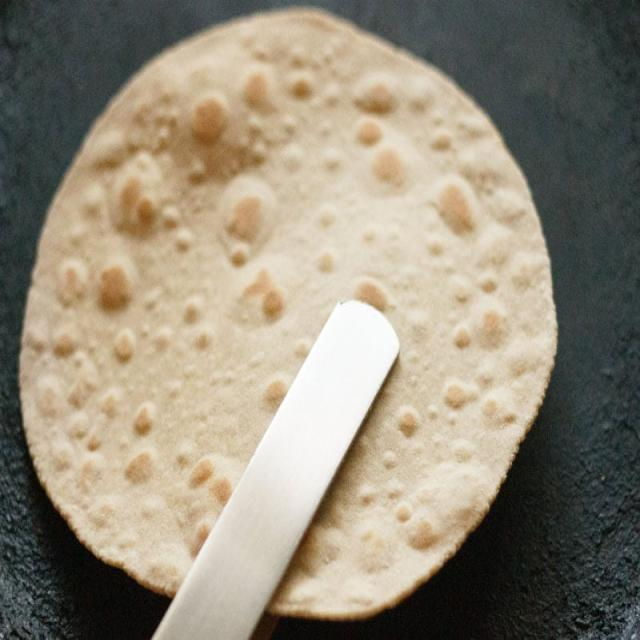ROTI: (20, 13, 554, 628)
